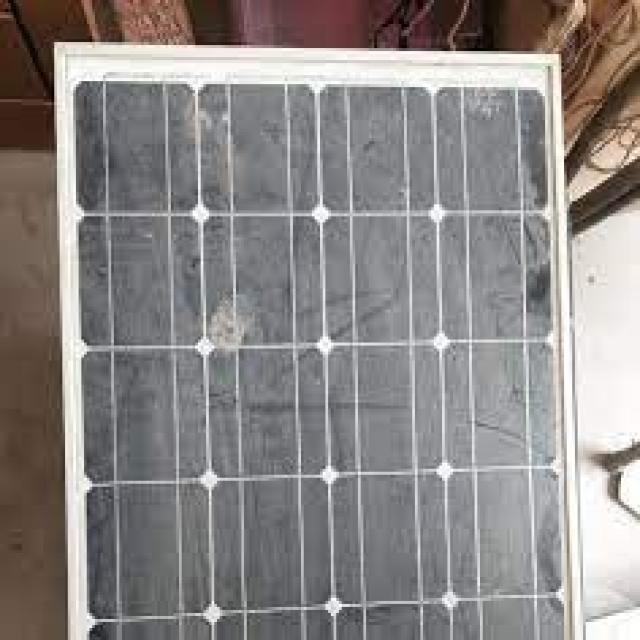faulty: (59, 47, 581, 640)
